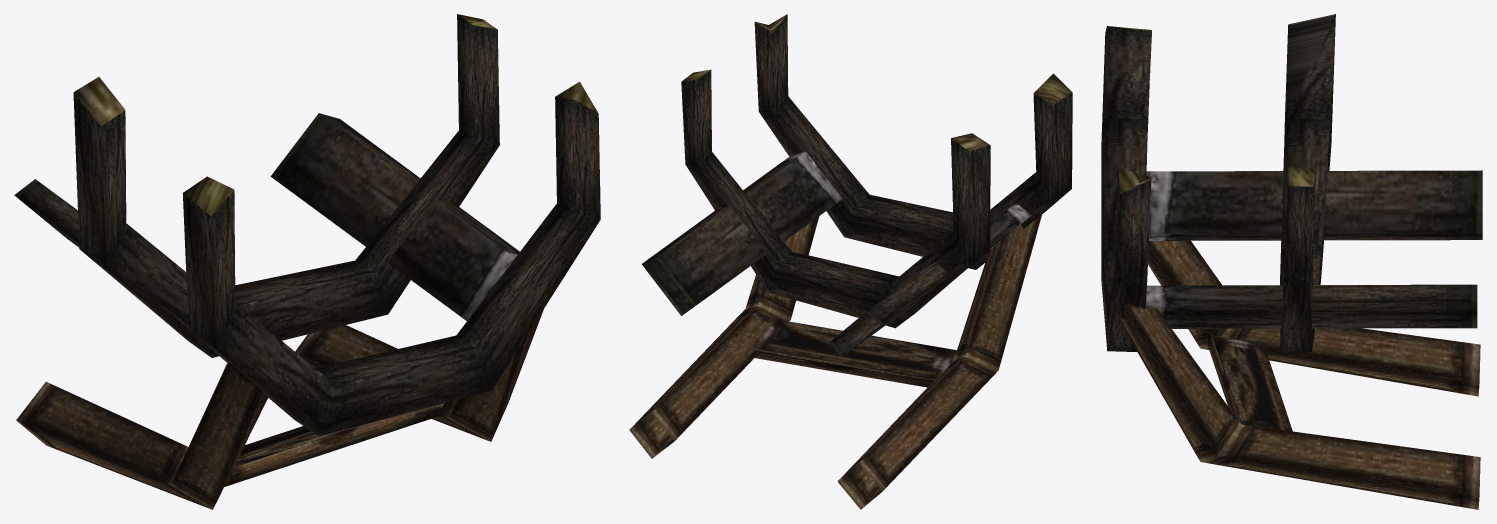
The model's file is OC_BARRELHOLDER_V01.glb.
3 renders of one model, left to right at view 1: azimuth 30°, elevation 25°; view 2: azimuth 150°, elevation 25°; view 3: azimuth 270°, elevation 25°, orthographic. The views are drawn at different scales.
Parts seen in each view (by area): view 1: Mesh; view 2: Mesh; view 3: Mesh.
Part boxes in pixels (x1,y1,x2,y2): Mesh: [14, 14, 600, 509]; Mesh: [629, 14, 1072, 509]; Mesh: [1101, 14, 1482, 509].
Bounding box in the file's own units: 0.842 × 0.8921 × 0.839.
Materials: 1 (1 with a texture image).
